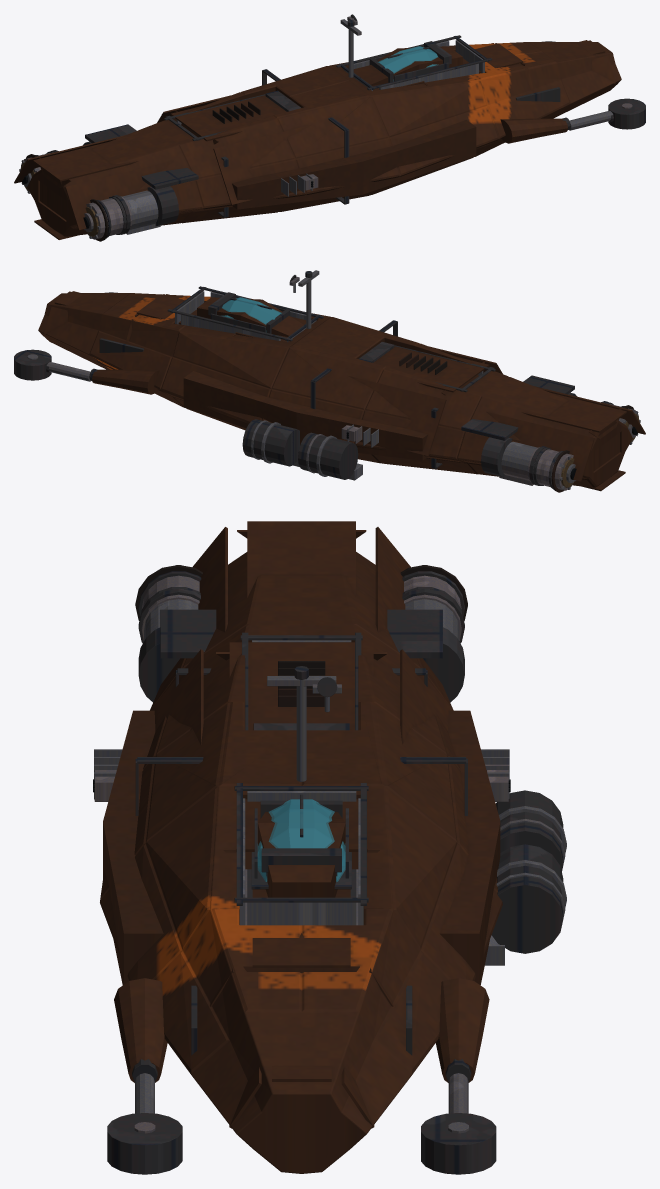
The model's file is pelican_production_v1_lod1.glb.
3 renders of one model, top to bottom at view 1: azimuth 30°, elevation 25°; view 2: azimuth 150°, elevation 25°; view 3: azimuth 270°, elevation 25°, orthographic. The views are drawn at different scales.
Parts seen in each view (by area): view 1: LOD1_Hull, LOD1_Armor, LOD1_Mechanical, LOD1_Canopy, LOD1_Radiator; view 2: LOD1_Hull, LOD1_Armor, LOD1_Mechanical, LOD1_Canopy, LOD1_Radiator; view 3: LOD1_Hull, LOD1_Armor, LOD1_Mechanical, LOD1_Canopy, LOD1_Radiator.
Part boxes in pixels (x1,y1,x2,y2): LOD1_Hull: [14, 40, 621, 239]; LOD1_Armor: [35, 14, 645, 238]; LOD1_Mechanical: [19, 16, 632, 239]; LOD1_Canopy: [377, 46, 438, 81]; LOD1_Radiator: [26, 101, 260, 241]; LOD1_Hull: [38, 291, 645, 491]; LOD1_Armor: [14, 271, 624, 489]; LOD1_Mechanical: [27, 270, 640, 490]; LOD1_Canopy: [221, 297, 281, 332]; LOD1_Radiator: [399, 352, 634, 492]; LOD1_Hull: [100, 521, 502, 1173]; LOD1_Armor: [107, 571, 563, 1174]; LOD1_Mechanical: [94, 565, 566, 1133]; LOD1_Canopy: [257, 799, 345, 881]; LOD1_Radiator: [135, 565, 467, 706].
Size of what is drawn, in the model's own units: 14.16 by 3.88 by 5.2.
9 materials, 9 textured.
